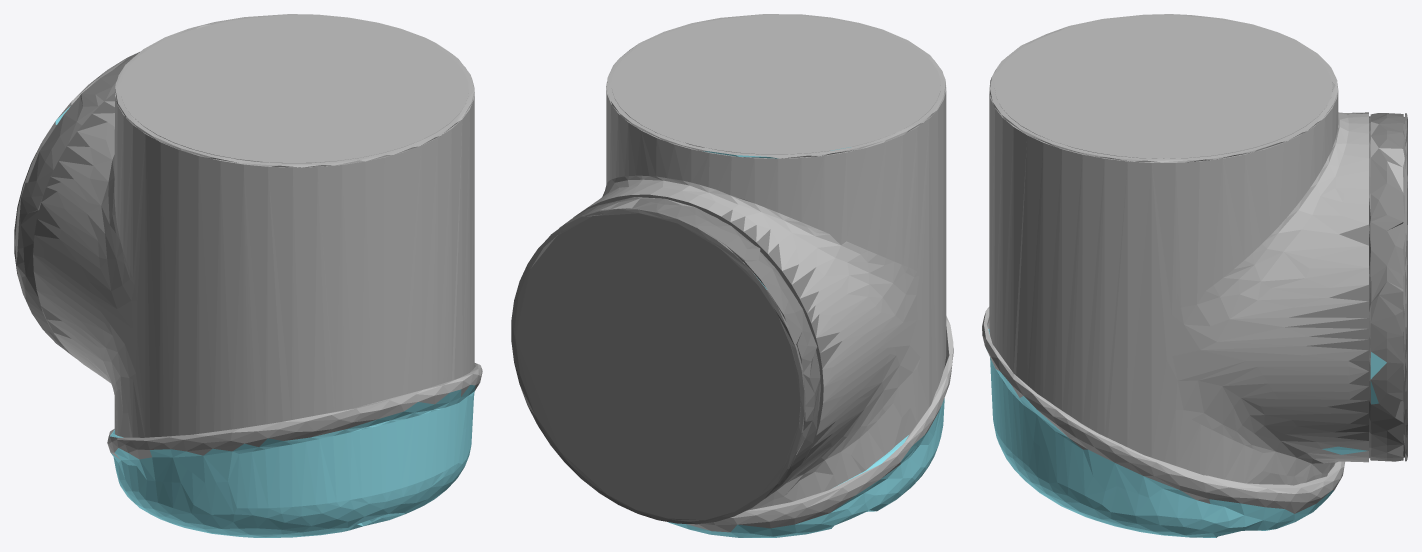
Rendered from UR10eLink5.dae.
3 renders of one model, left to right at view 1: azimuth 30°, elevation 25°; view 2: azimuth 150°, elevation 25°; view 3: azimuth 270°, elevation 25°, orthographic. The views are drawn at different scales.
Parts seen in each view (by area): view 1: UR10eLink5; view 2: UR10eLink5; view 3: UR10eLink5.
Boxes of the visible parts, x1,y1,x2,y2 form: UR10eLink5: (14, 14, 482, 537); UR10eLink5: (511, 14, 953, 537); UR10eLink5: (982, 14, 1407, 537).
Bounding box in the file's own units: 0.0937 × 0.1098 × 0.114.
